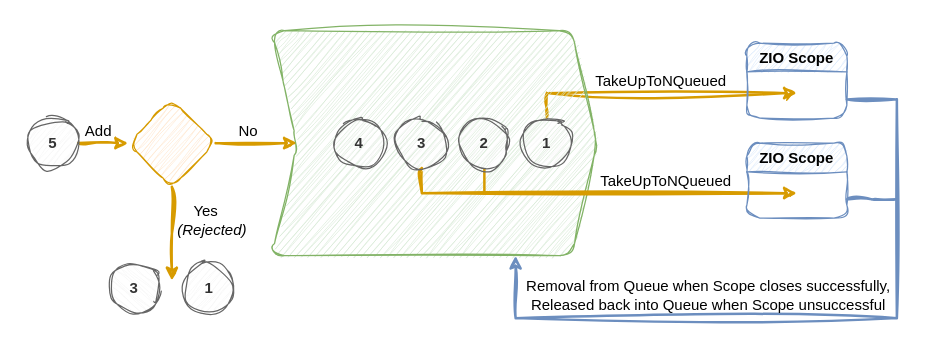
Image size: 929x350. Some labels were removed from this diagram. The box of each missing label's shape, as (x1, y1, x2, y2) in pixels:
Exists: (127, 98, 216, 187)
Ordered Set Queue (LinkedHashSet): (271, 29, 597, 256)
